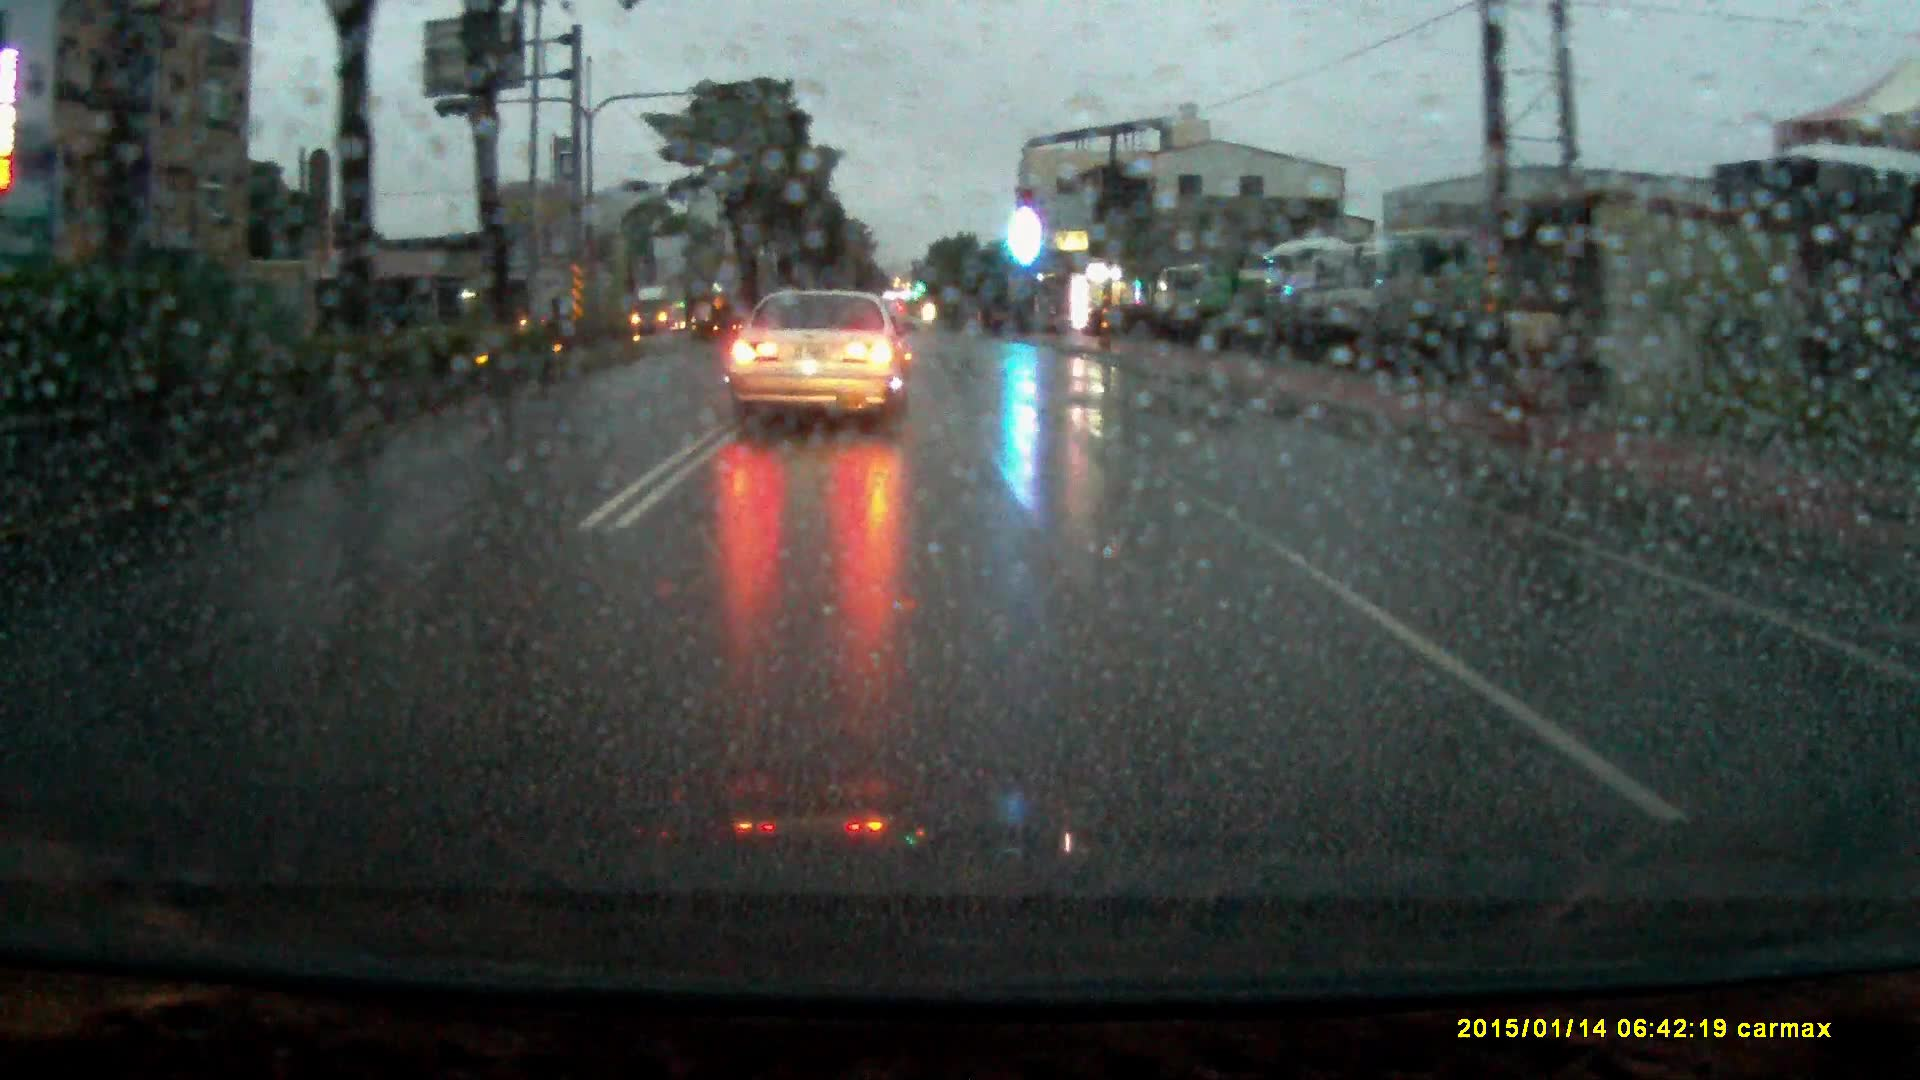vehicle: (727, 285, 916, 439), (1371, 231, 1484, 367), (1265, 237, 1350, 345), (1299, 244, 1375, 357), (1156, 262, 1215, 336), (1193, 276, 1271, 326), (636, 286, 690, 334)
